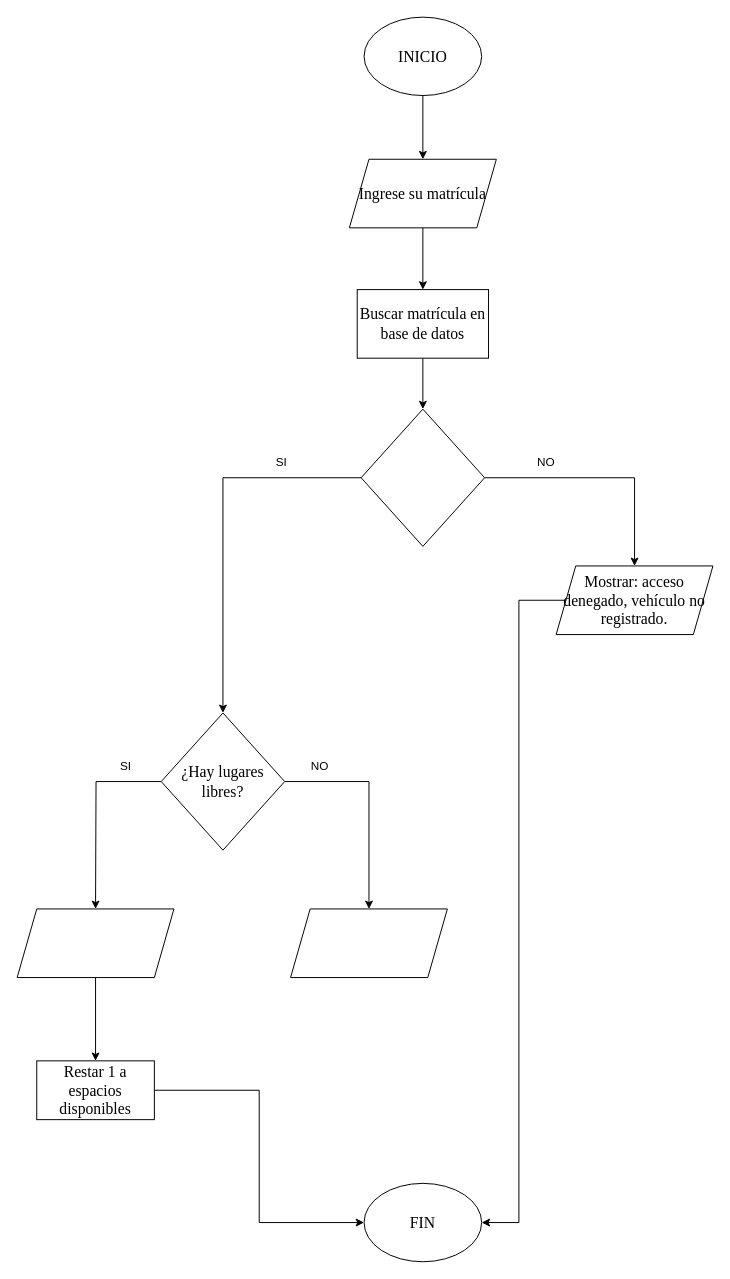
The diagram is 730 pixels wide and 1279 high, and some of its shapes have lost their labels. The centre of each missing label's shape, as x and y in pixels:
Mostrar mensaje: acceso denegado, estacionamiento lleno.: the point at 368,943
Mostrar mensaje: acceso permitido, bienvenido.: the point at 95,943
¿Está registrado?: the point at 422,477
